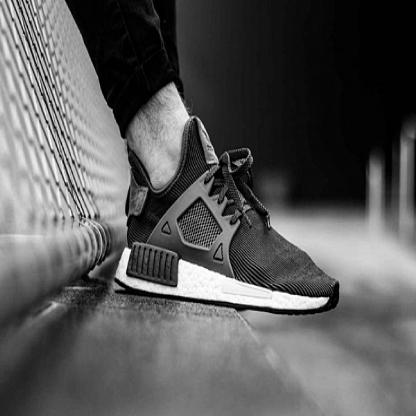ankle: (105, 73, 202, 182)
right_foot: (117, 111, 345, 321)
